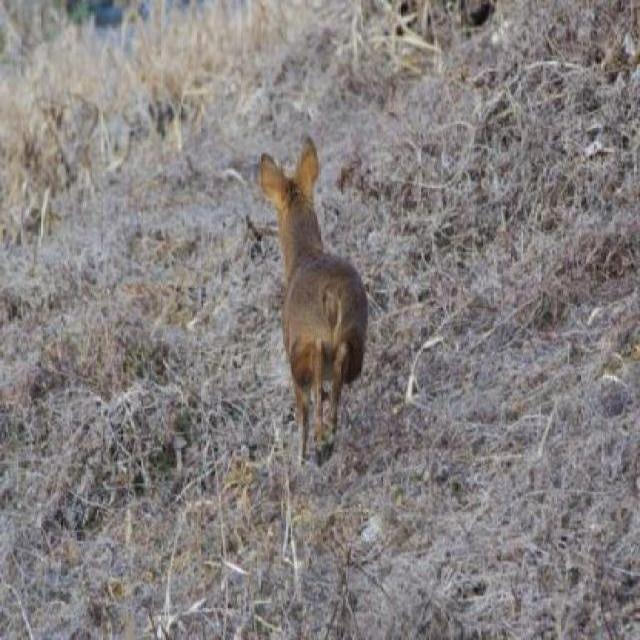deer: (261, 135, 364, 477)
